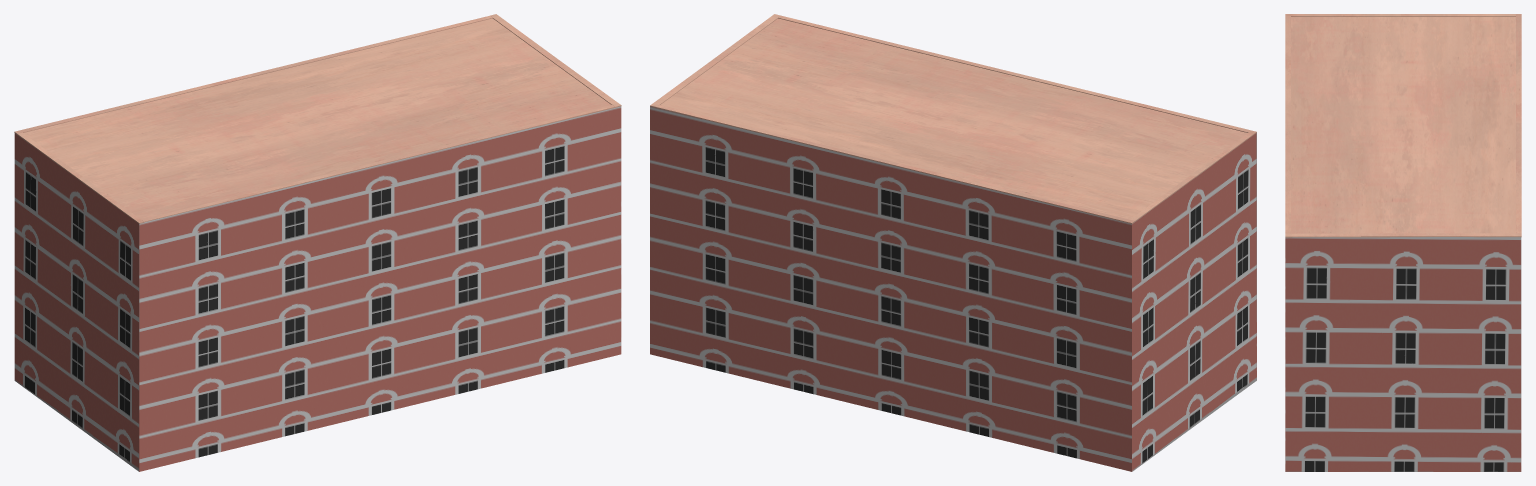
Rendered from Build2final.fbx.
3 views of the same model, side by side, from view 1: azimuth 30°, elevation 25°; view 2: azimuth 150°, elevation 25°; view 3: azimuth 270°, elevation 25° (orthographic). The views are drawn at different scales.
Parts seen in each view (by area): view 1: Construction_Building; view 2: Construction_Building; view 3: Construction_Building.
Boxes of the visible parts, <box> form: Construction_Building: <box>14,14,621,471</box>; Construction_Building: <box>650,14,1256,471</box>; Construction_Building: <box>1285,14,1521,471</box>.
Size of the model in its own units: 663 by 327 by 297.
1 material, 1 textured.
